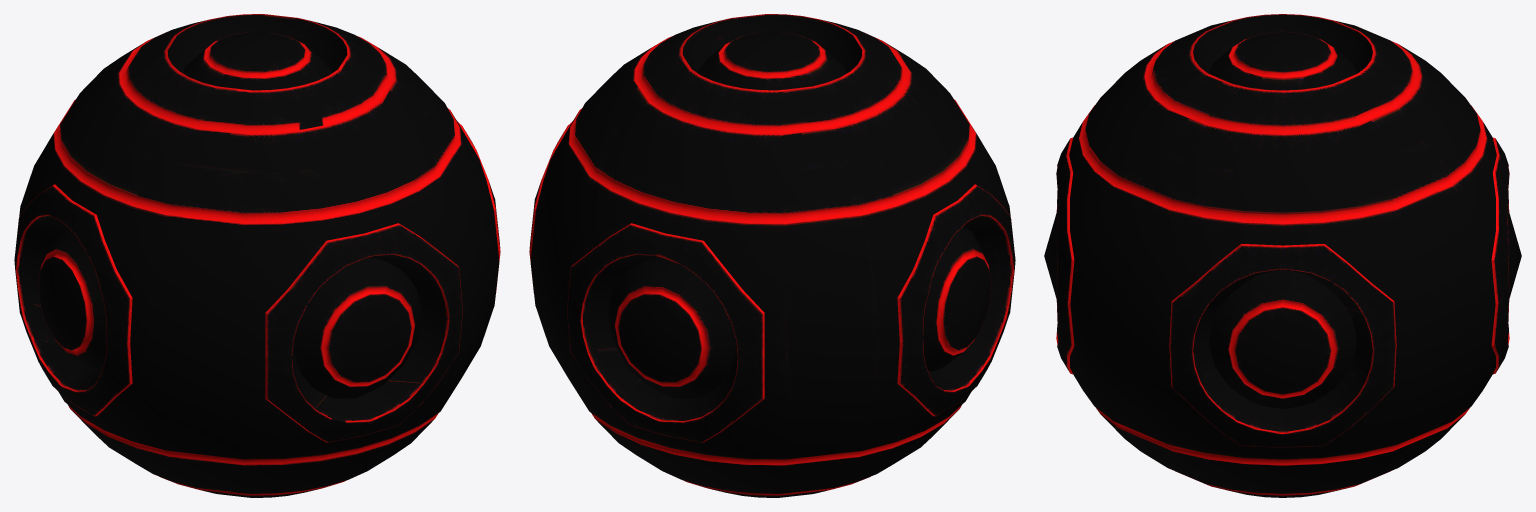
File: ball_skul.fbx
The picture shows the model from 3 angles, left to right: view 1: azimuth 30°, elevation 25°; view 2: azimuth 150°, elevation 25°; view 3: azimuth 270°, elevation 25°; orthographic projection.
Visible parts, largest first — view 1: Sphere014, Sphere014.001, Sphere014.002; view 2: Sphere014, Sphere014.001, Sphere014.002; view 3: Sphere014, Sphere014.001, Sphere014.002.
Part boxes in pixels (x1,y1,x2,y2): Sphere014: [14, 14, 500, 497]; Sphere014.001: [15, 14, 500, 495]; Sphere014.002: [38, 226, 106, 371]; Sphere014: [529, 14, 1015, 497]; Sphere014.001: [529, 14, 1014, 495]; Sphere014.002: [923, 226, 991, 371]; Sphere014: [1044, 14, 1521, 497]; Sphere014.001: [1056, 14, 1509, 495]; Sphere014.002: [1209, 269, 1356, 409].
Size of the model in its own units: 12 by 12 by 12.
